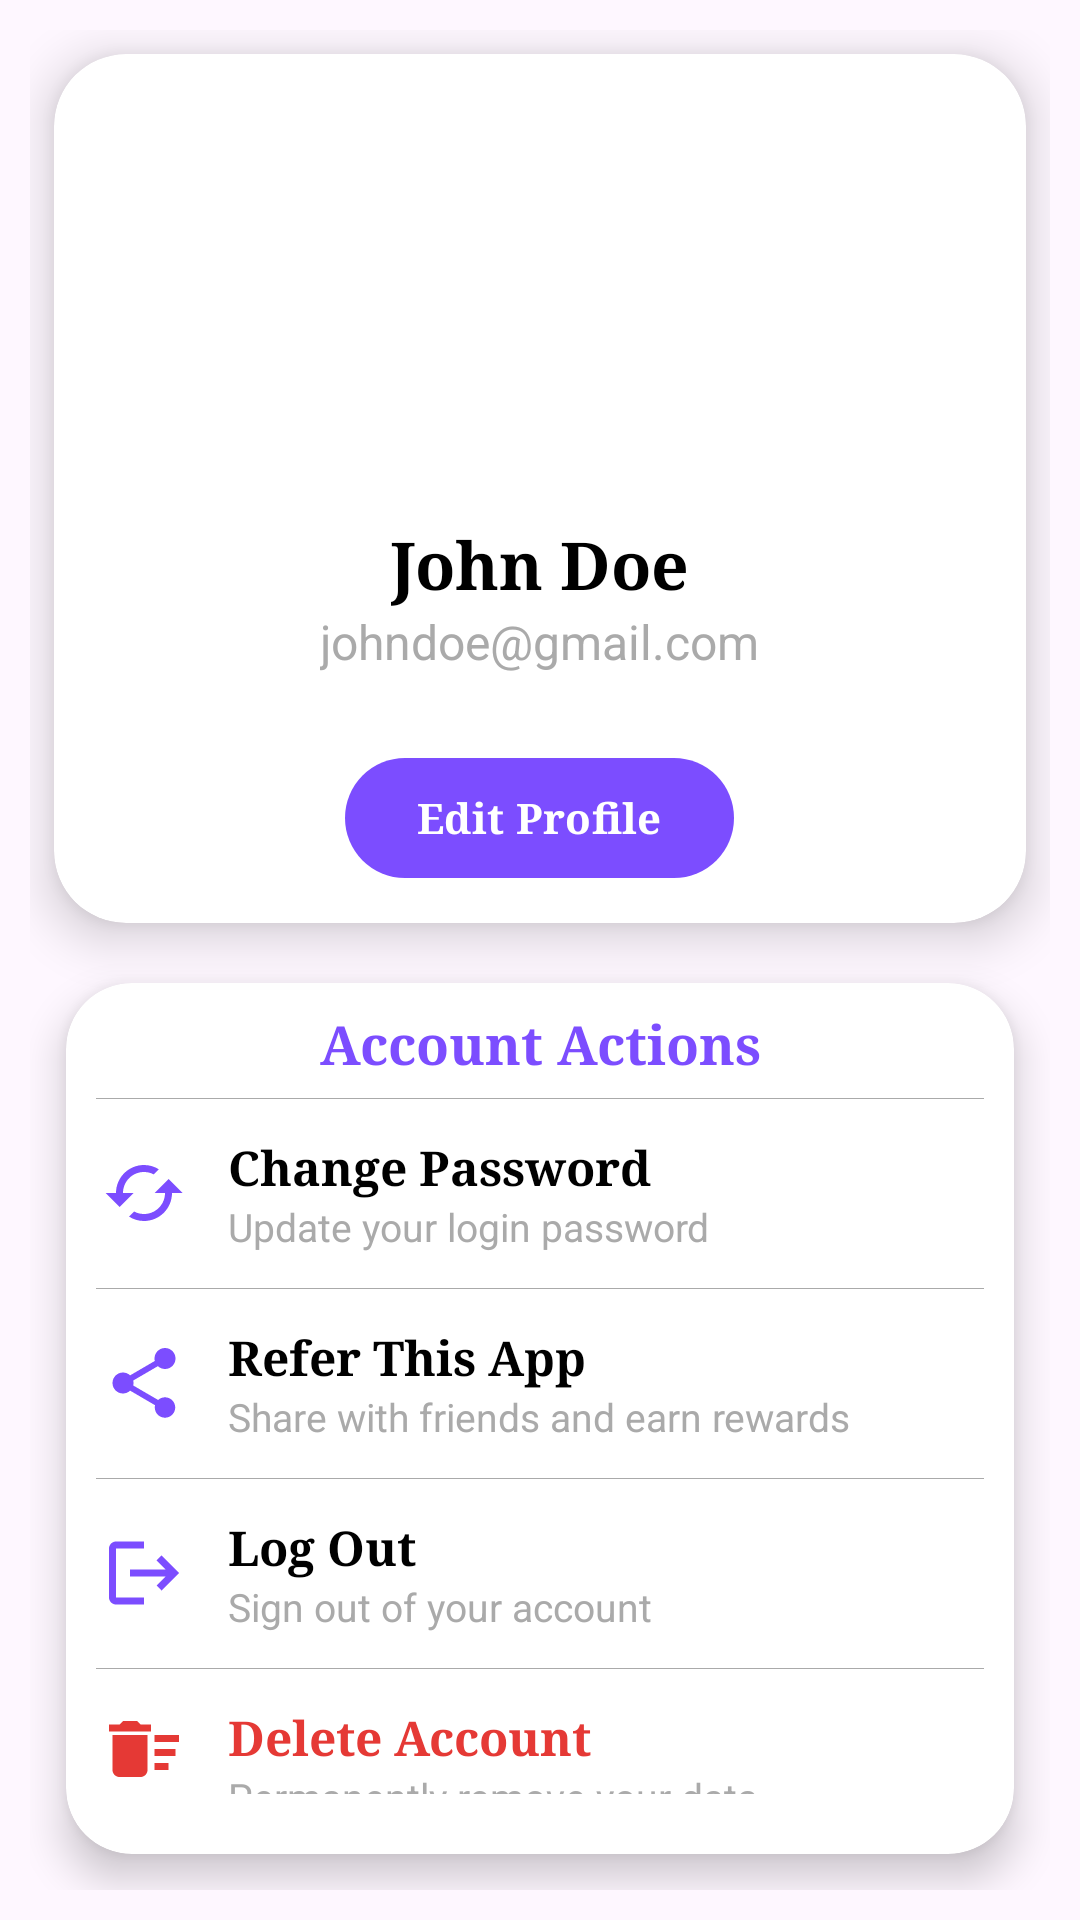

Named icons in this screenshot (1080 x 1920) and their bounding boxes, [left=x1, top=y1, right=x2, bottom=y2]:
change ps: [left=106, top=1165, right=183, bottom=1221]
delete sweep: [left=109, top=1721, right=179, bottom=1777]
